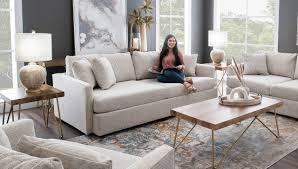light: (15, 27, 53, 91), (204, 29, 228, 65)
sofa: (52, 54, 218, 134), (1, 119, 175, 169), (224, 53, 298, 118)
table: (170, 96, 285, 169), (0, 86, 65, 138), (205, 61, 234, 93)
